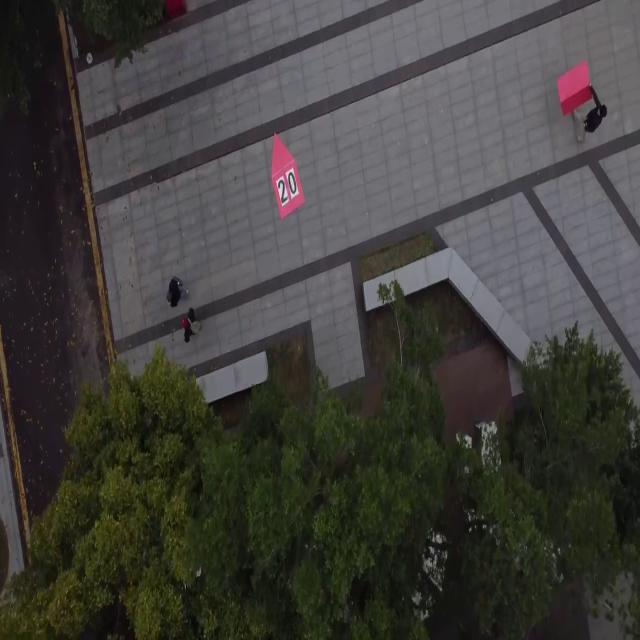-sign-: (270, 132, 305, 220), (557, 61, 592, 118)
